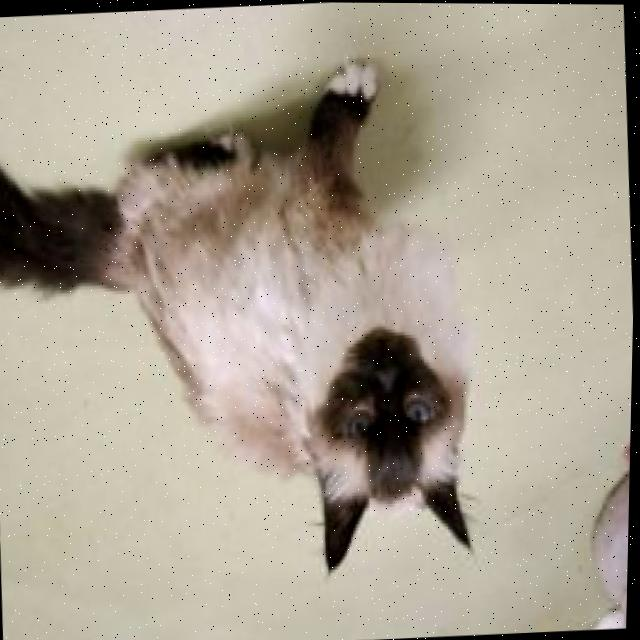Birman: (0, 46, 493, 599)
